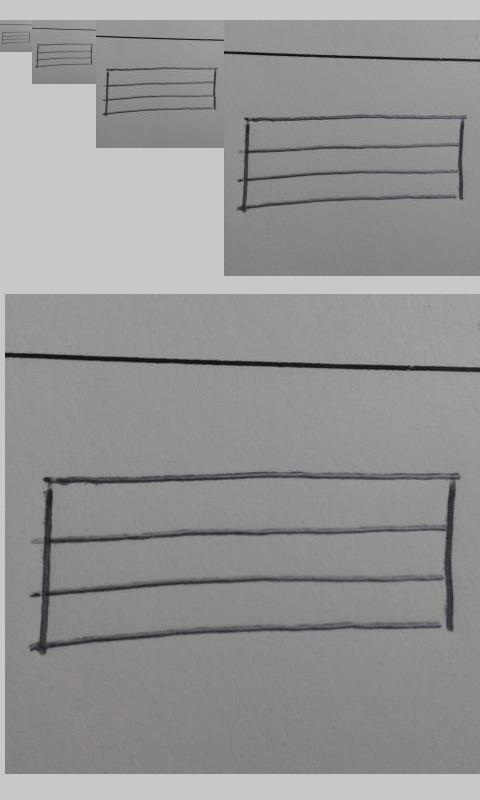list_view: (37, 469, 456, 653), (240, 113, 465, 214), (103, 66, 218, 115), (36, 43, 93, 68), (1, 31, 31, 45)
